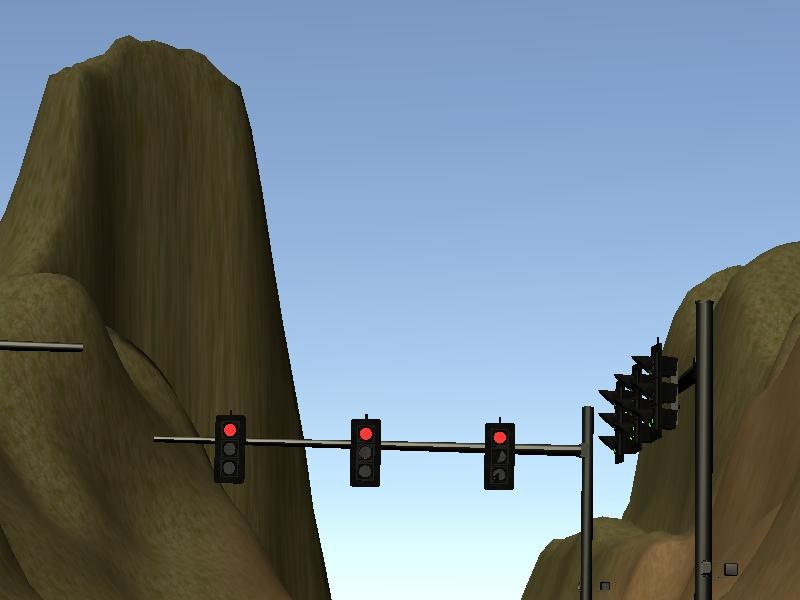red: (342, 411, 388, 493), (207, 409, 253, 488), (479, 415, 521, 494)
